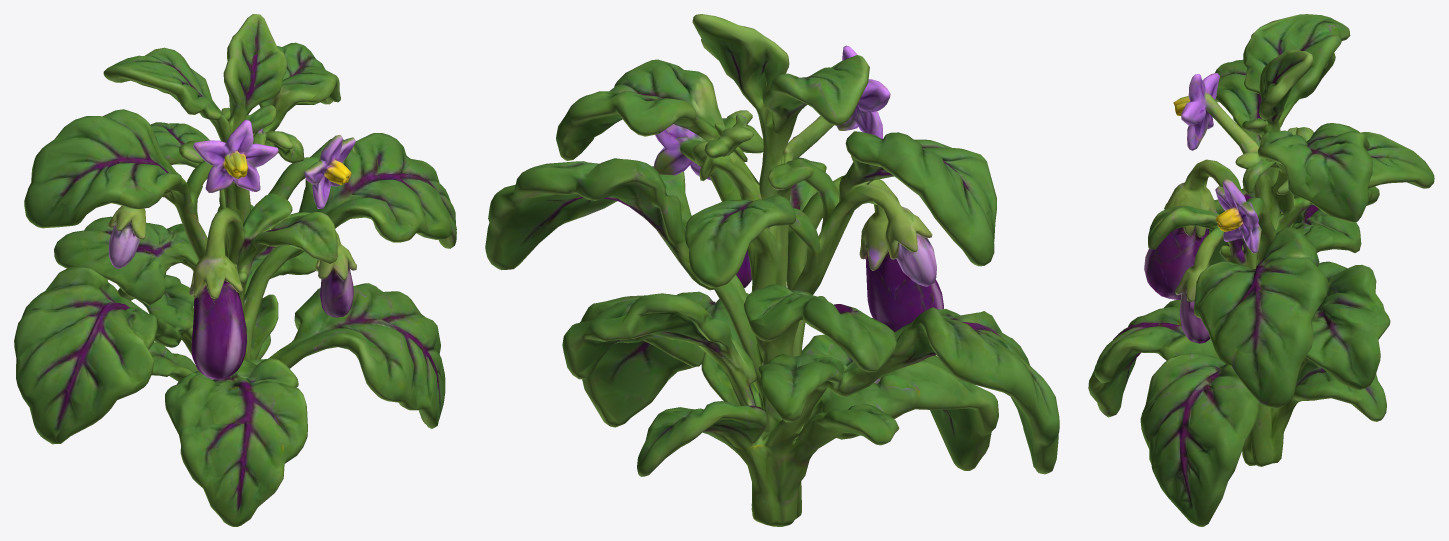
File: eggplant-growing.glb
3 views of the same model, side by side, from view 1: azimuth 30°, elevation 25°; view 2: azimuth 150°, elevation 25°; view 3: azimuth 270°, elevation 25° (orthographic). The views are drawn at different scales.
Size of the model in its own units: 1.9 by 1.69 by 1.25.
Materials: 1 (1 with a texture image).
